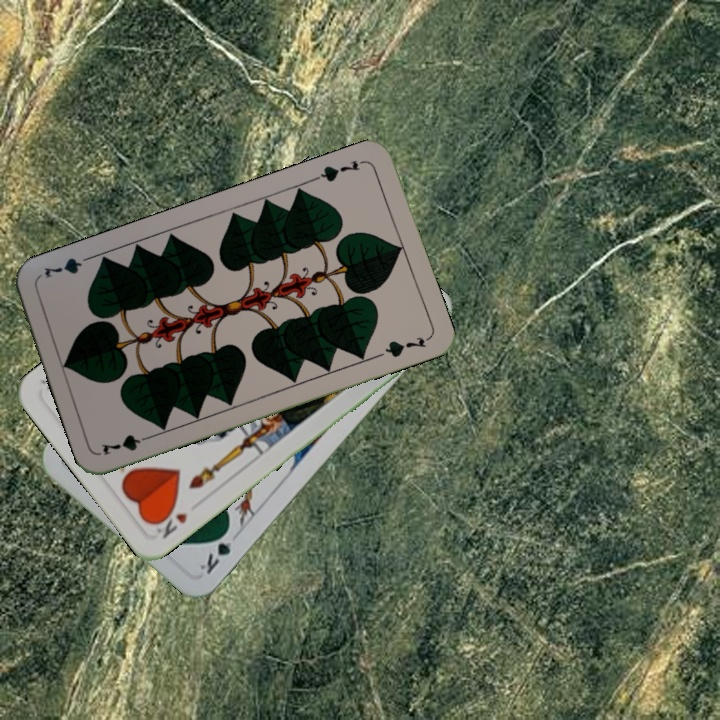G7: (310, 155, 367, 185), (98, 430, 156, 459)
GK: (195, 524, 234, 577)
HK: (147, 503, 191, 542)
